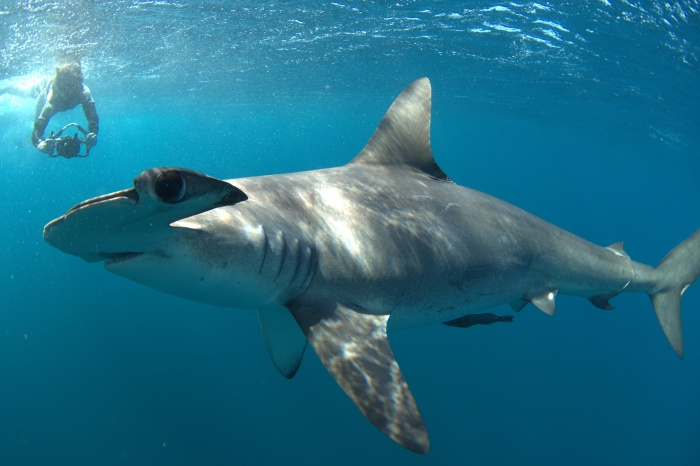Hammer: (34, 76, 696, 466)
